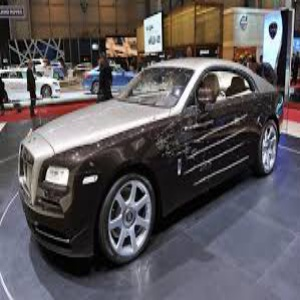door_scratch: (167, 116, 259, 196)
